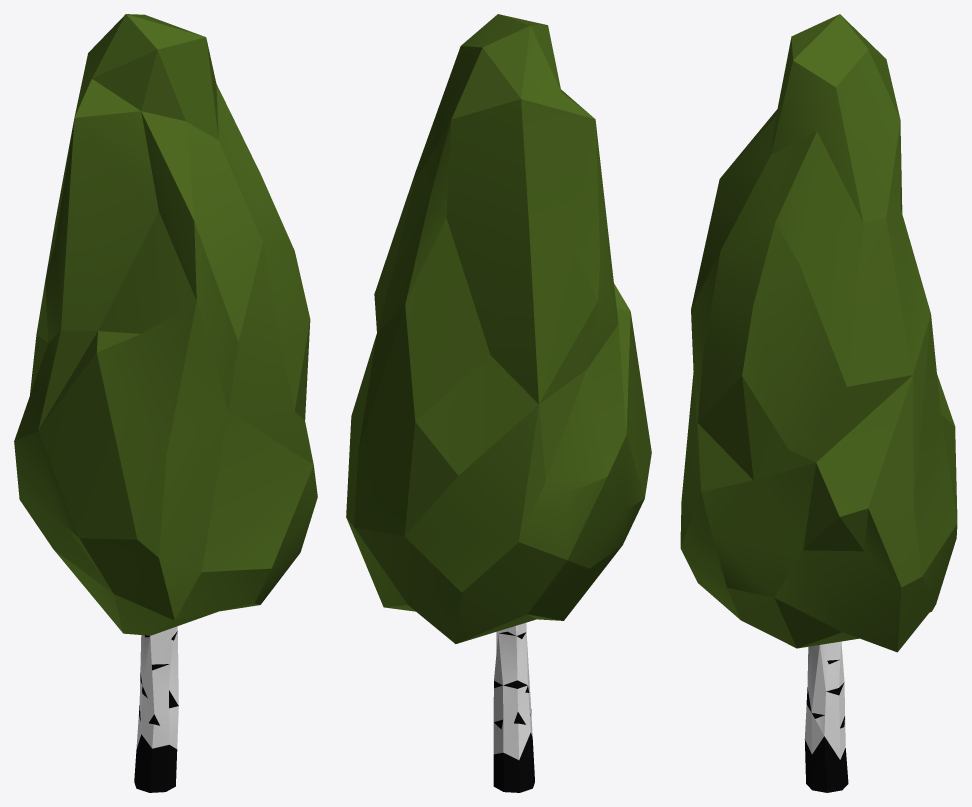
File: Tree.obj
The picture shows the model from 3 angles, left to right: view 1: azimuth 30°, elevation 25°; view 2: azimuth 150°, elevation 25°; view 3: azimuth 270°, elevation 25°; orthographic projection.
Visible parts, largest first — view 1: BirchA; view 2: BirchA; view 3: BirchA.
Part boxes in pixels (x1=…): BirchA: x1=14, y1=14, x2=317, y2=792; BirchA: x1=346, y1=14, x2=651, y2=792; BirchA: x1=680, y1=14, x2=957, y2=792.
Size of the model in its own units: 5.56 by 15.32 by 5.07.
